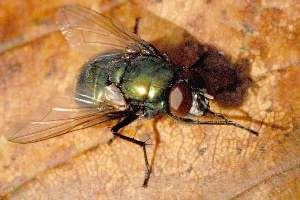green bottles fly: (5, 3, 261, 187)
